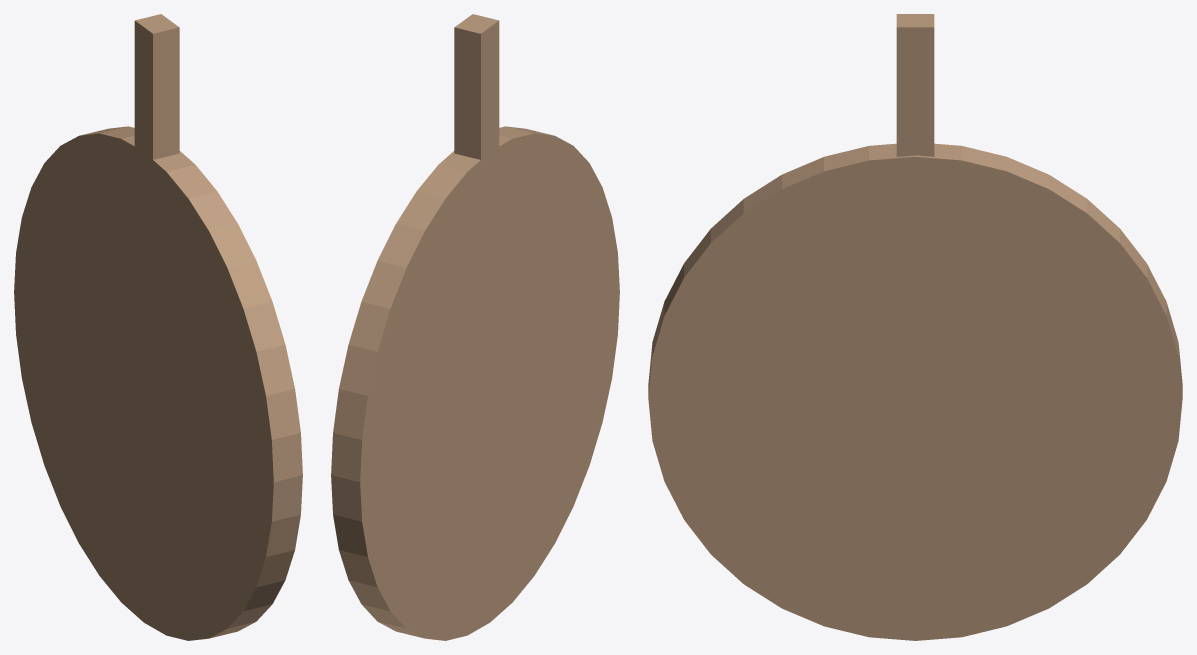
The model's file is SM_CuttingBoard.fbx.
3 views of the same model, side by side, from view 1: azimuth 30°, elevation 25°; view 2: azimuth 150°, elevation 25°; view 3: azimuth 270°, elevation 25° (orthographic). The views are drawn at different scales.
Parts seen in each view (by area): view 1: SM_CuttingBoard; view 2: SM_CuttingBoard; view 3: SM_CuttingBoard.
Part boxes in pixels (x1,y1,x2,y2): SM_CuttingBoard: (14, 14, 302, 640); SM_CuttingBoard: (331, 14, 619, 640); SM_CuttingBoard: (648, 14, 1182, 640).
Bounding box in the file's own units: 2.2 × 43 × 34.
